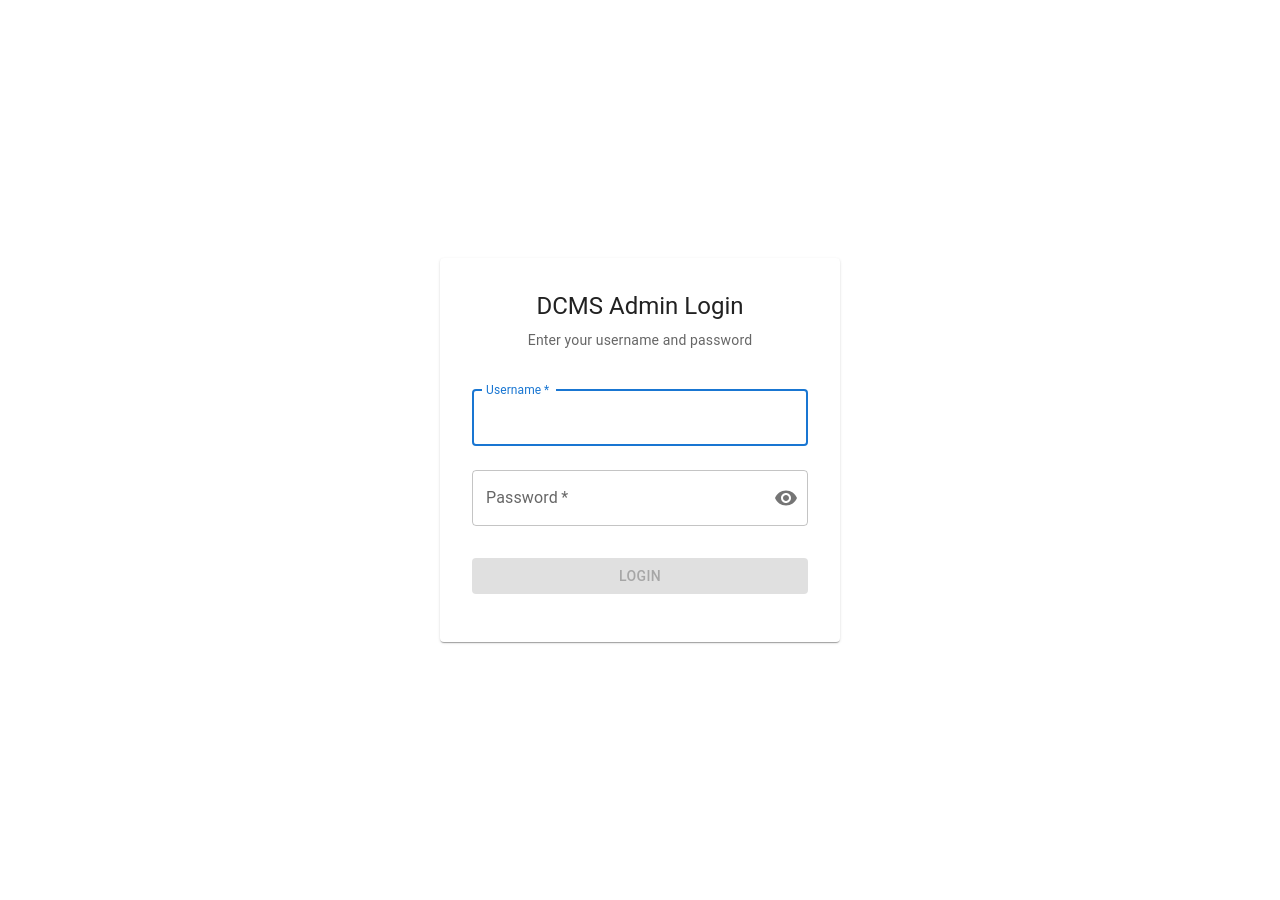
Test: AdminLogin › shows the "which center?" popup instead of logging in when the account has multiple tenants
The width and height of the screenshot is (1280, 900).
Type "alice" into the field labelled "Username *".
click(640, 418); type("alice")  # box [472,390,808,446]
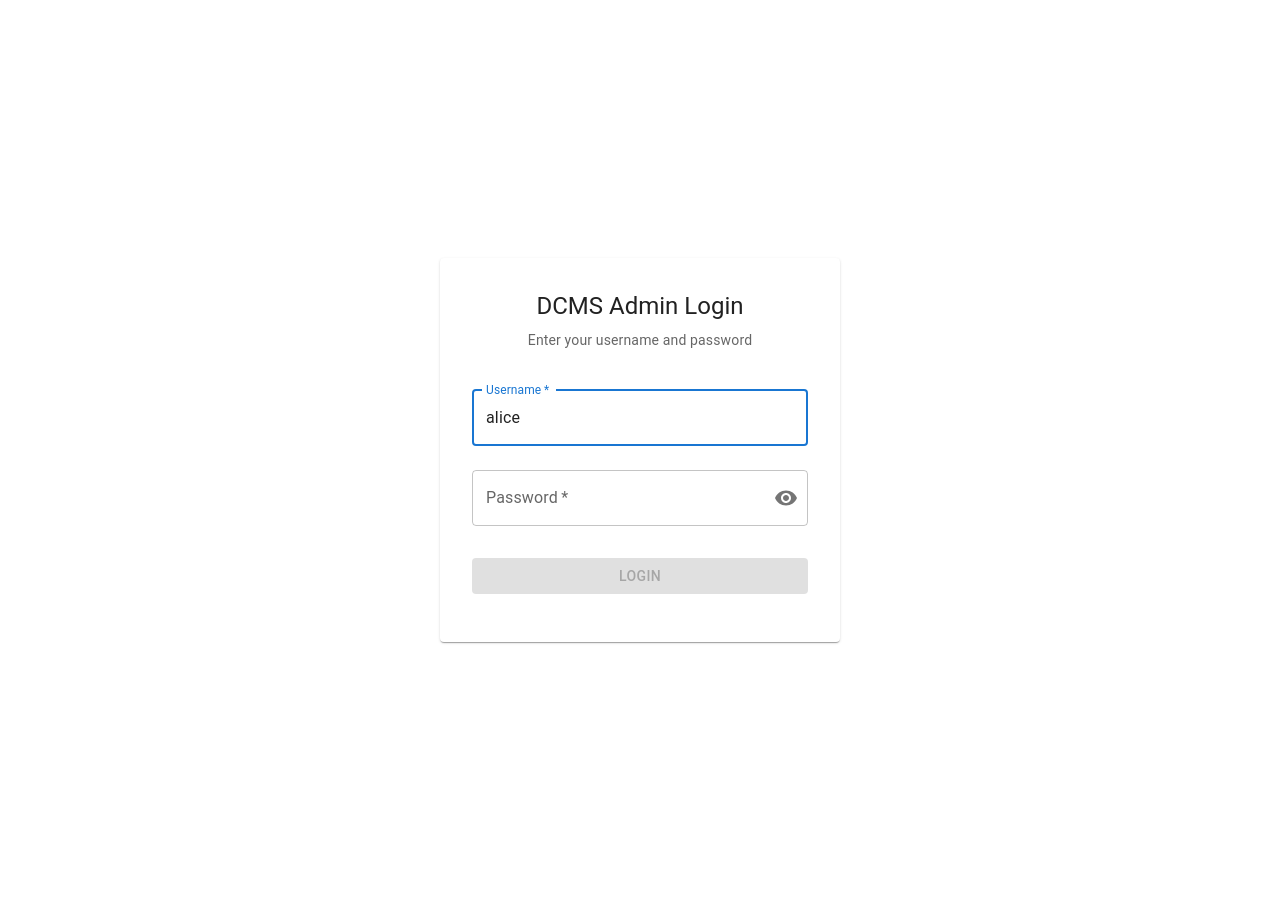
Type "hunter2" into the password field labelled "Password *".
click(615, 498); type("hunter2")  # box [472,470,758,526]
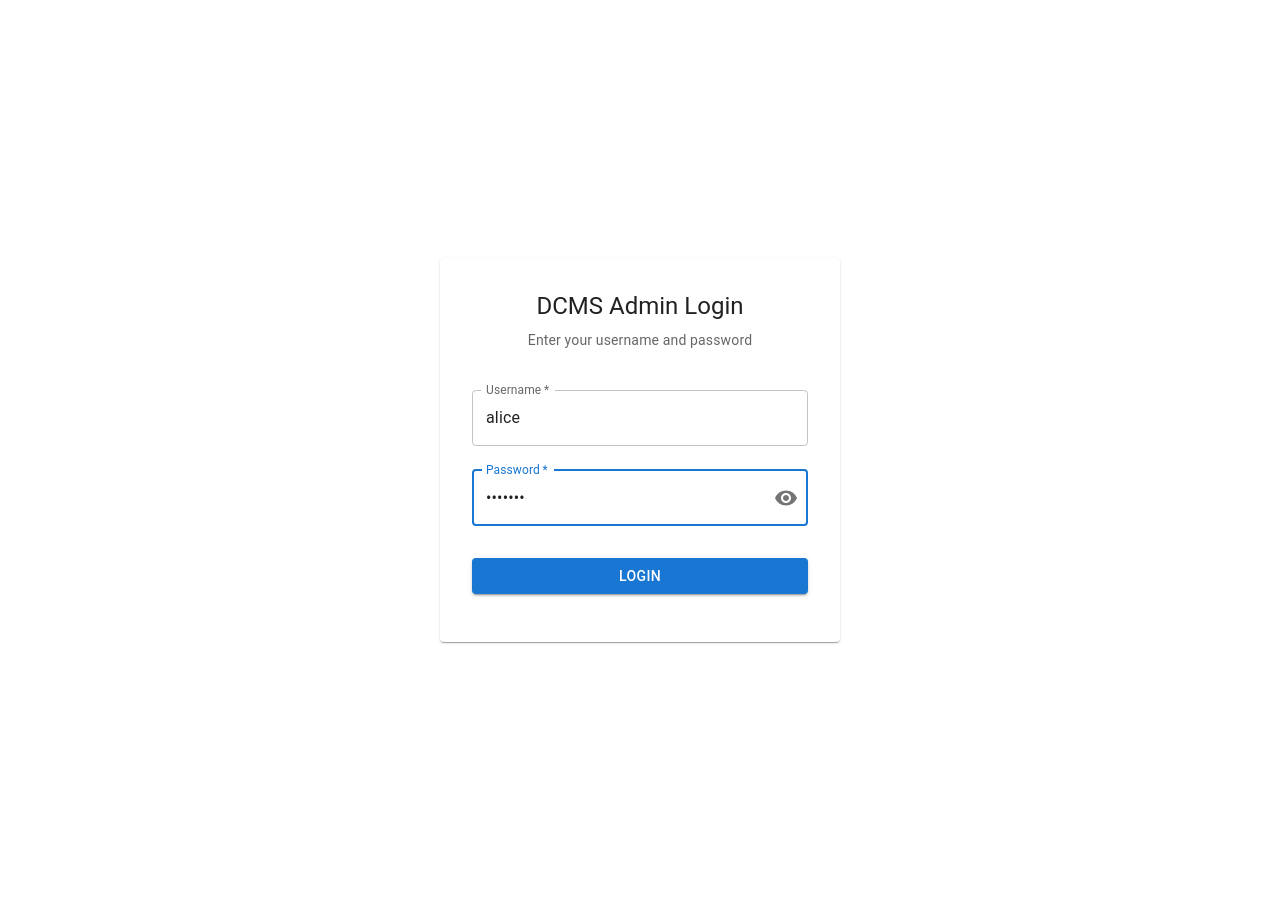
Click the button "Login".
click(640, 576)  # box [472,558,808,594]
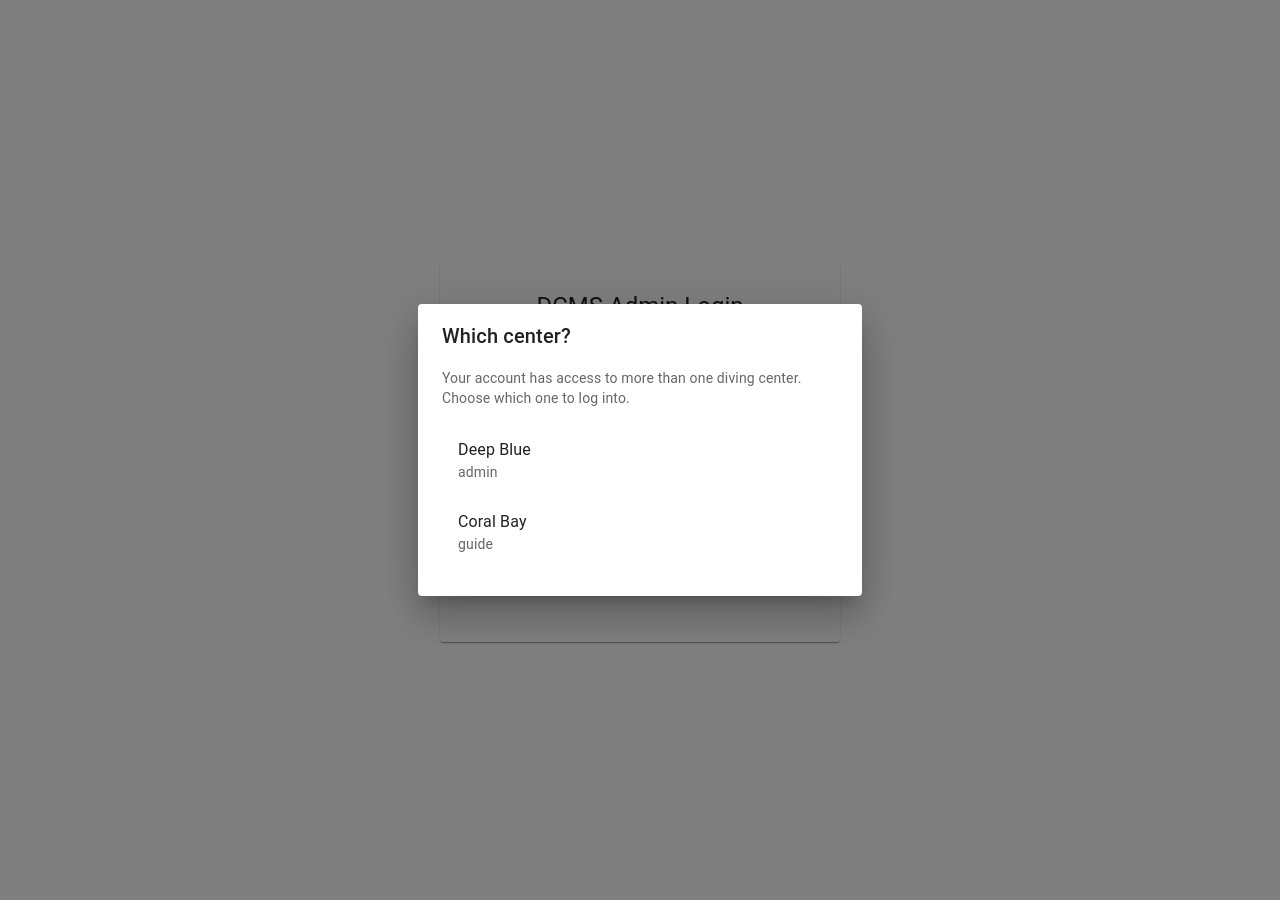
Expected: the heading "Which center?" is shown, [442,324,571,348]
Expected: the text "Deep Blue" is shown, [458,440,531,459]
Expected: the text "Coral Bay" is shown, [458,512,527,531]
